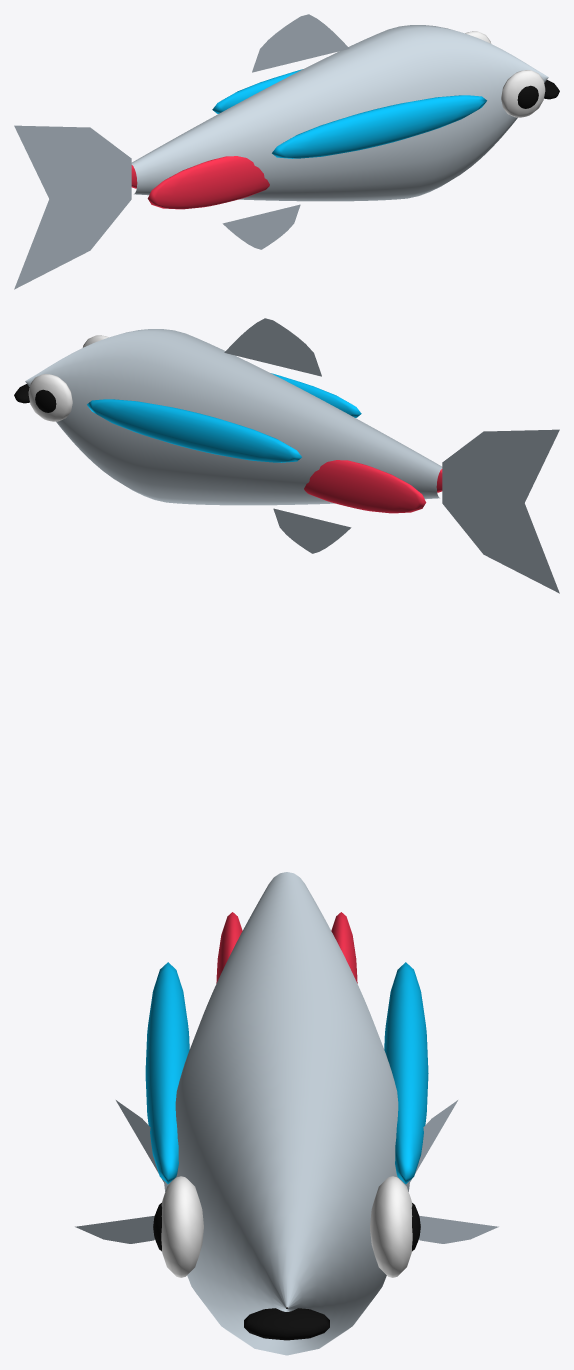
Rendered from neon_tetra.glb.
3 renders of one model, top to bottom at view 1: azimuth 30°, elevation 25°; view 2: azimuth 150°, elevation 25°; view 3: azimuth 270°, elevation 25°, orthographic. The views are drawn at different scales.
Parts seen in each view (by area): view 1: neon_tetra; view 2: neon_tetra; view 3: neon_tetra.
Boxes of the visible parts, left/top/right/bottom form: neon_tetra: left=14, top=14, right=559, bottom=289; neon_tetra: left=14, top=318, right=559, bottom=593; neon_tetra: left=75, top=872, right=498, bottom=1355.
Bounding box in the file's own units: 1.1 × 0.4369 × 0.375.
